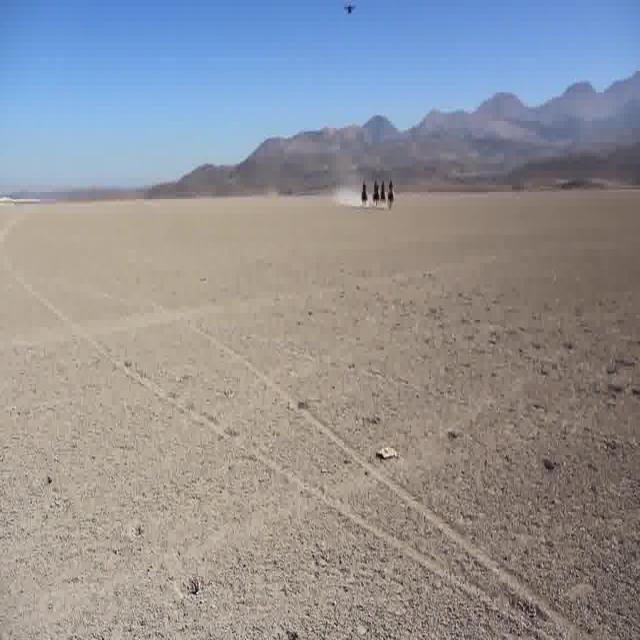drone: (342, 1, 356, 16)
